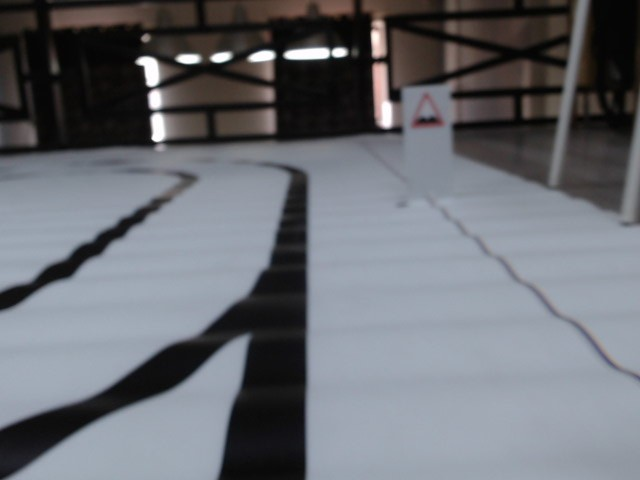Nerov: (408, 91, 447, 133)
